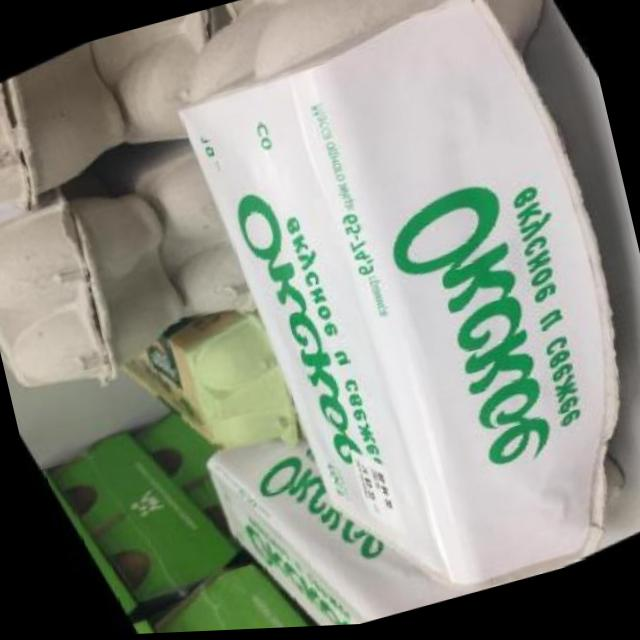Egg: (59, 0, 640, 638), (0, 146, 228, 422)
